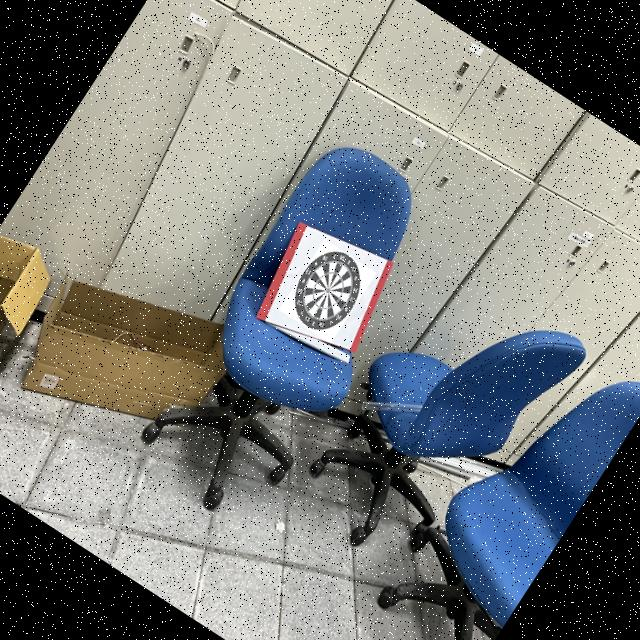archery-targets: (278, 239, 376, 343)
